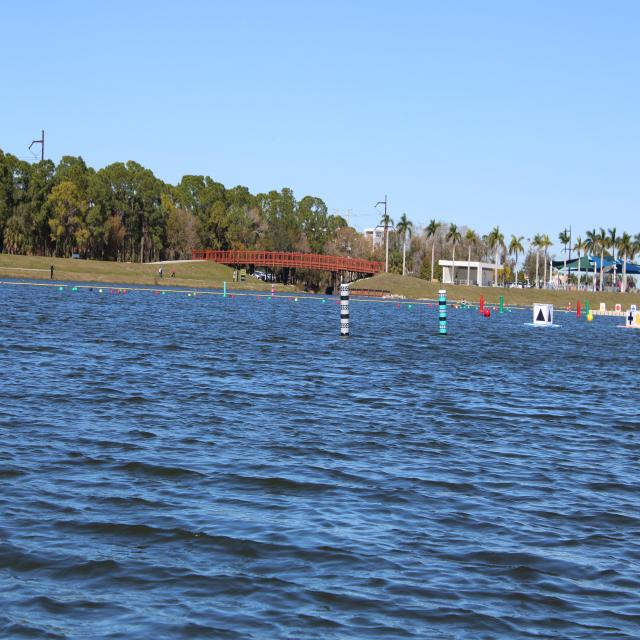green-column-buoy: (499, 294, 504, 313), (586, 302, 591, 318)
red-buoy: (486, 307, 491, 315)
red-column-buoy: (480, 293, 486, 313), (576, 301, 580, 318)
yellow-buoy: (100, 288, 104, 293)
